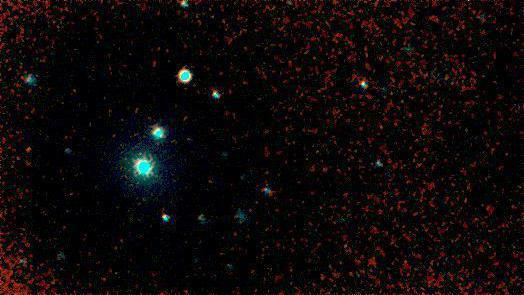star: (14, 134, 44, 164)
